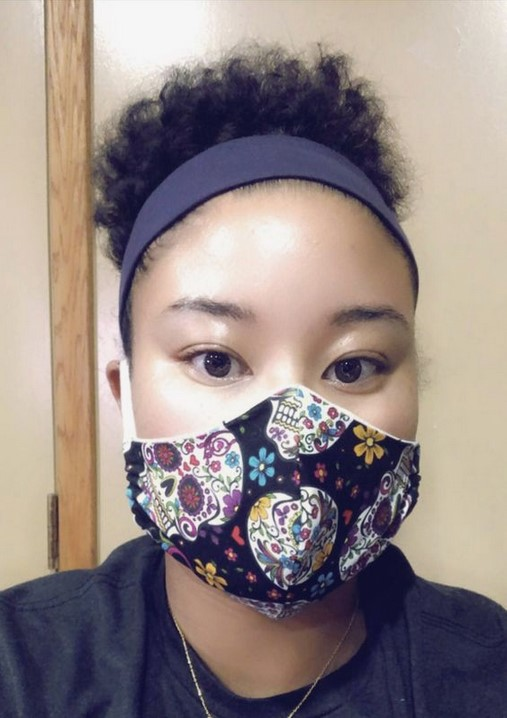face_with_mask: (113, 138, 422, 619)
